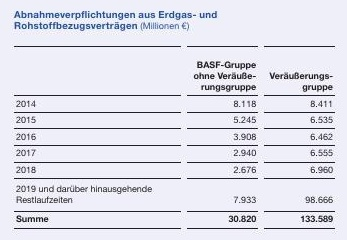table: (0, 0, 347, 240)
